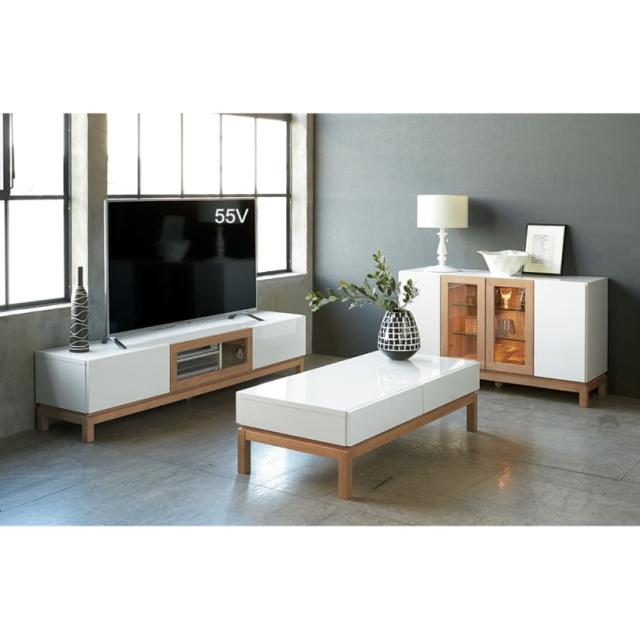natural desk: (230, 342, 484, 504)
natural shelf: (393, 257, 614, 400)
